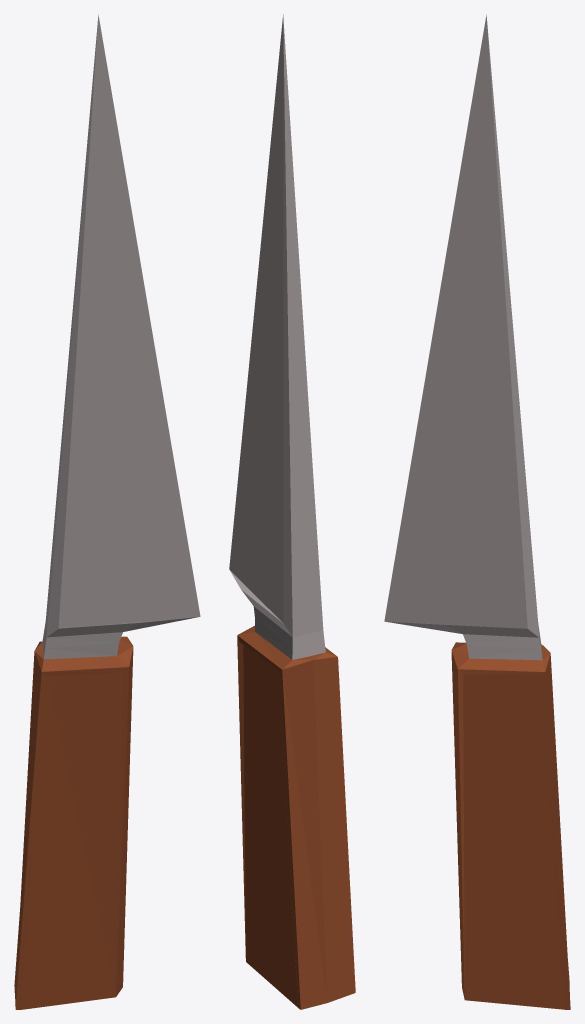
The model's file is faca.dae.
3 views of the same model, side by side, from view 1: azimuth 90°, elevation 25°; view 2: azimuth 210°, elevation 25°; view 3: azimuth 270°, elevation 25° (orthographic). The views are drawn at different scales.
Visible parts, largest first — view 1: Cube; view 2: Cube; view 3: Cube.
Part boxes in pixels (x1,y1,x2,y2): Cube: [14, 14, 200, 1009]; Cube: [229, 14, 355, 1009]; Cube: [384, 14, 570, 1009].
Size of the model in its own units: 0.2916 by 0.7147 by 4.17.
